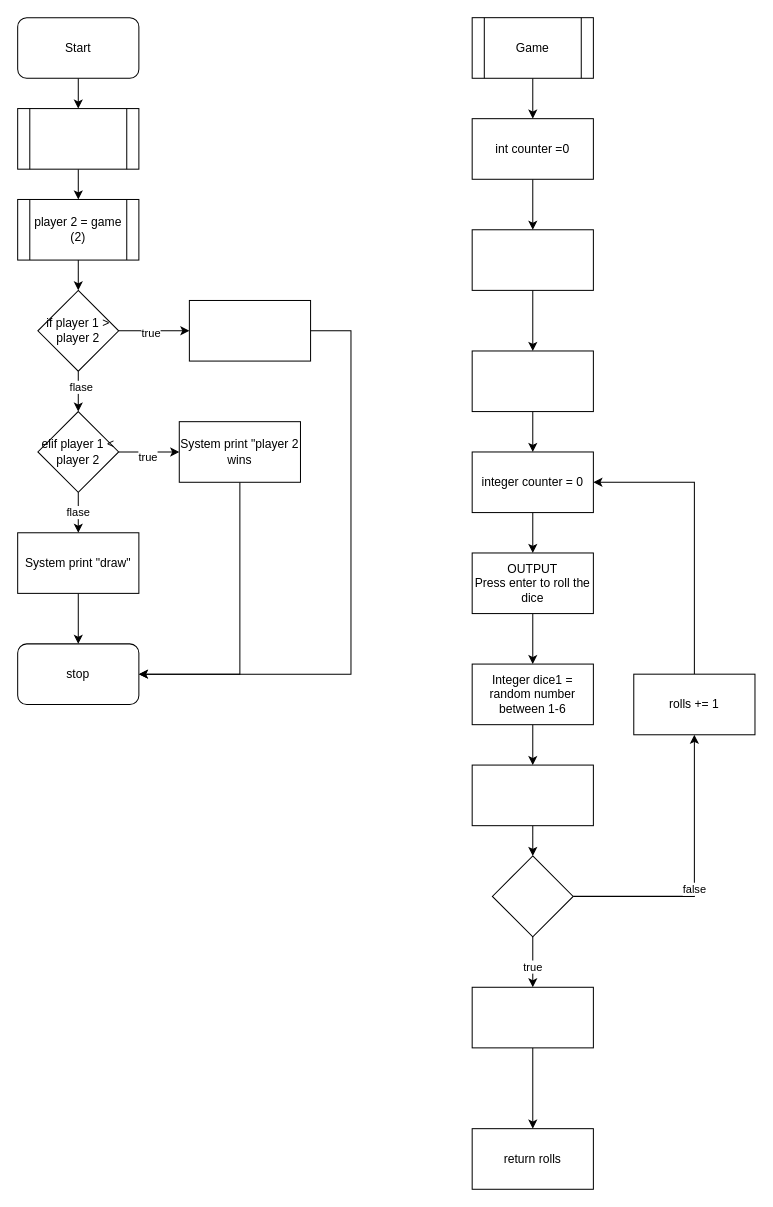
This 773x1207 diagram has some shape labels left out. The shapes that lost their labels are listed below. From the top down, each one's box as (x1, y1, x2, y2) in pixels, then its label:
(17, 108, 139, 169): player 1 = game (1)
(471, 229, 593, 290): int player = player_num
(188, 299, 311, 361): System print "player 1 wins"
(471, 350, 593, 412): System prints "Welcome player " + player
(471, 764, 593, 826): Integer dice2 = random number between 1-6
(491, 855, 573, 937): if dice1 = 6 and dice2 = 6
(471, 986, 593, 1048): System print "payer " + player " scored " + rolls
